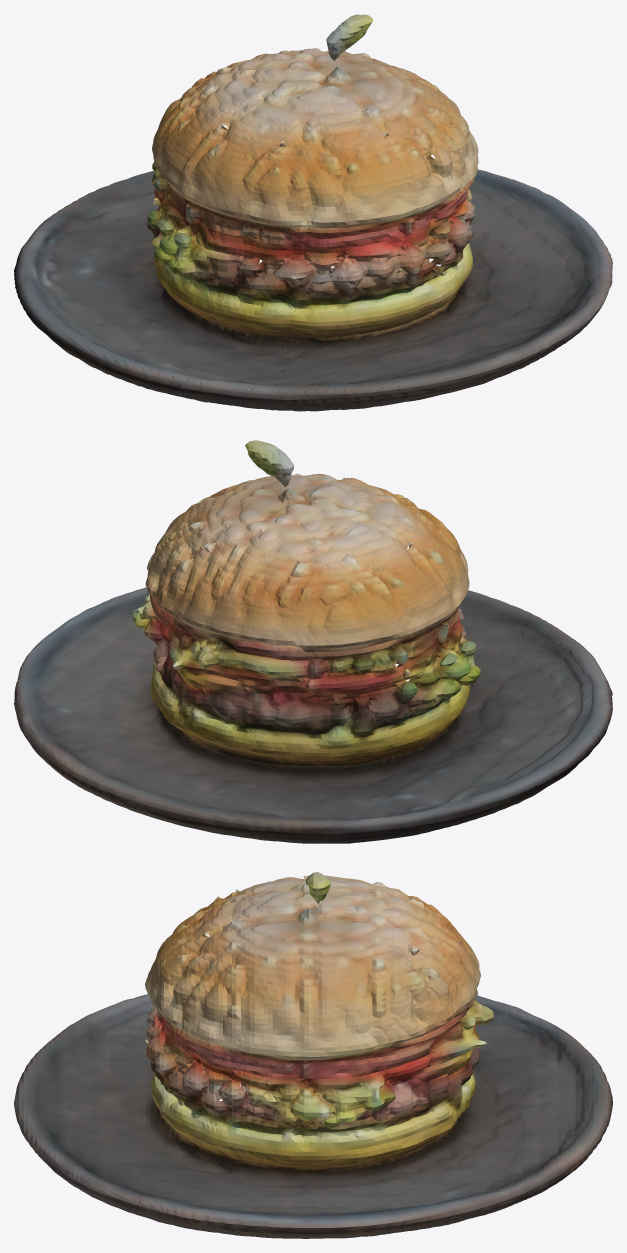
File: burgerGLB.glb
The picture shows the model from 3 angles, top to bottom: view 1: azimuth 30°, elevation 25°; view 2: azimuth 150°, elevation 25°; view 3: azimuth 270°, elevation 25°; orthographic projection. The views are drawn at different scales.
Parts seen in each view (by area): view 1: world; view 2: world; view 3: world.
Boxes of the visible parts, x1,y1,x2,y2 form: world: (14, 14, 612, 411); world: (14, 440, 612, 843); world: (14, 872, 612, 1238).
Bounding box in the file's own units: 0.9182 × 0.4773 × 0.9037.
